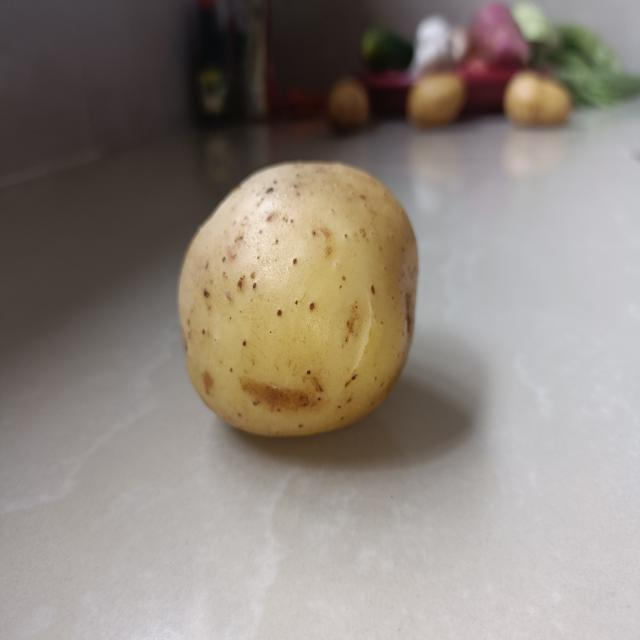potato: (176, 154, 423, 444)
